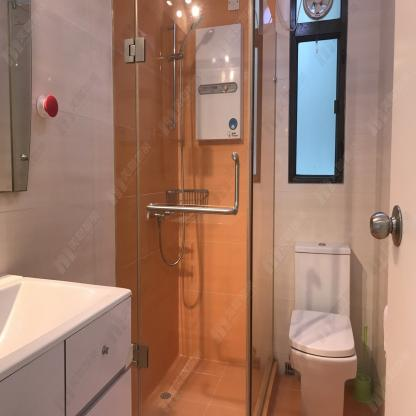Exhaust Fan: (296, 0, 341, 23)
Toilet: (286, 242, 357, 416)
Toilet Sink: (0, 272, 132, 381)
Water Heater: (195, 23, 243, 141)
